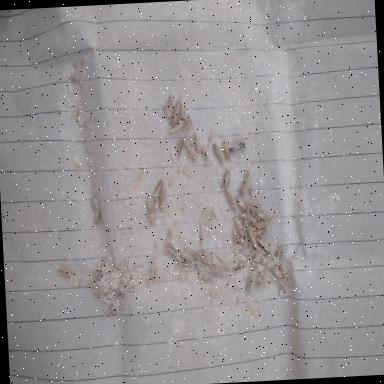pbw: (212, 140, 228, 171), (170, 95, 184, 127), (244, 202, 266, 222), (238, 170, 252, 196), (164, 242, 182, 262), (183, 139, 198, 162), (224, 186, 237, 212), (196, 246, 211, 268), (94, 291, 116, 306), (146, 196, 156, 228), (235, 196, 250, 216), (180, 250, 201, 264), (91, 196, 101, 225), (245, 222, 257, 246), (234, 216, 246, 240), (152, 180, 164, 203), (179, 107, 192, 128), (250, 240, 267, 256), (271, 266, 288, 282), (279, 264, 291, 286), (245, 220, 267, 231), (246, 226, 268, 237), (158, 186, 168, 210), (221, 140, 231, 164), (220, 170, 231, 191), (256, 236, 270, 252), (255, 272, 269, 288), (239, 211, 256, 224), (192, 130, 202, 152), (176, 136, 185, 160), (230, 261, 246, 274), (164, 92, 173, 114), (56, 264, 70, 278), (170, 118, 184, 132), (266, 250, 278, 266), (200, 146, 209, 166), (66, 73, 80, 85), (212, 265, 227, 276), (274, 246, 284, 260), (248, 280, 256, 296), (248, 305, 258, 316)
